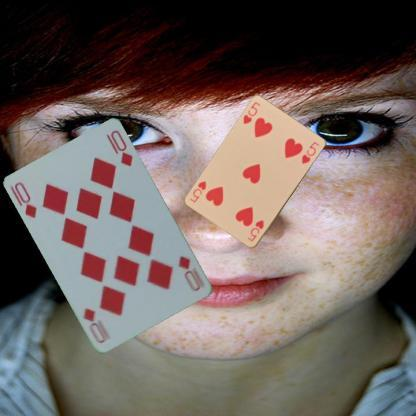10d: (8, 178, 39, 220), (176, 253, 206, 293)
5h: (240, 99, 262, 126), (245, 218, 265, 242)
